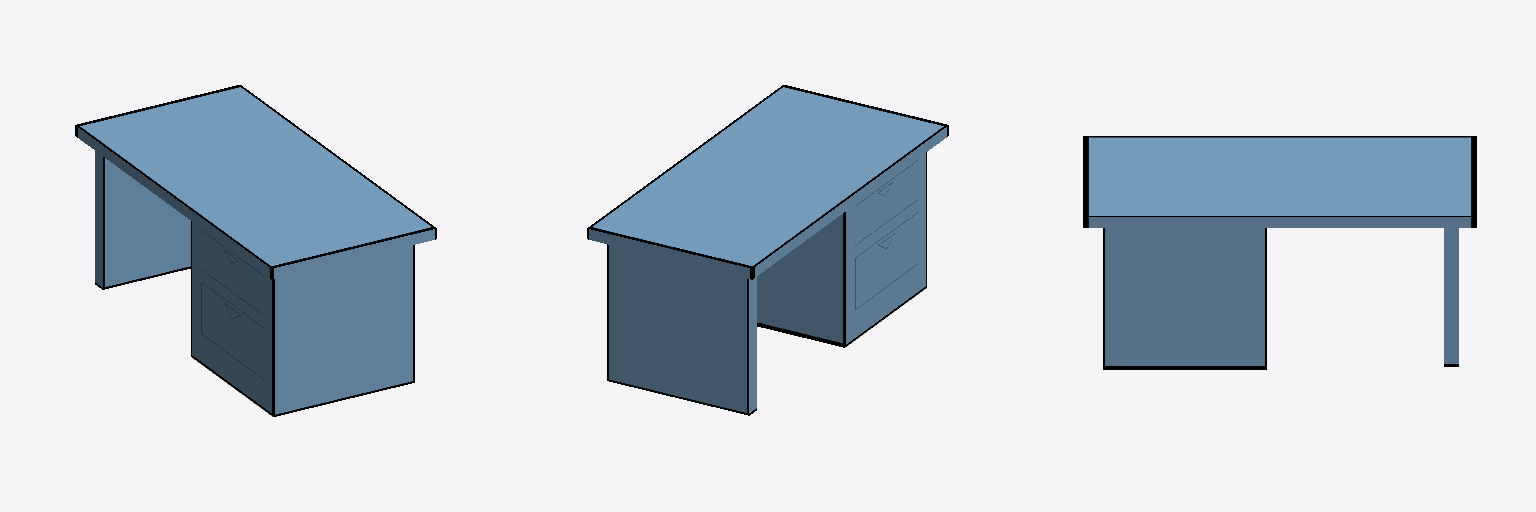
3 views of the same model, side by side, from view 1: azimuth 30°, elevation 25°; view 2: azimuth 150°, elevation 25°; view 3: azimuth 270°, elevation 25° (orthographic).
Visible parts, largest first — view 1: desk:polySurface18; view 2: desk:polySurface18; view 3: desk:polySurface18.
Part boxes in pixels (left/top/right/bottom): desk:polySurface18: left=75, top=85, right=436, bottom=416; desk:polySurface18: left=587, top=85, right=948, bottom=415; desk:polySurface18: left=1083, top=136, right=1476, bottom=369.
Bounding box in the file's own units: 1.68 × 1.54 × 3.46.
2 materials, 2 textured.